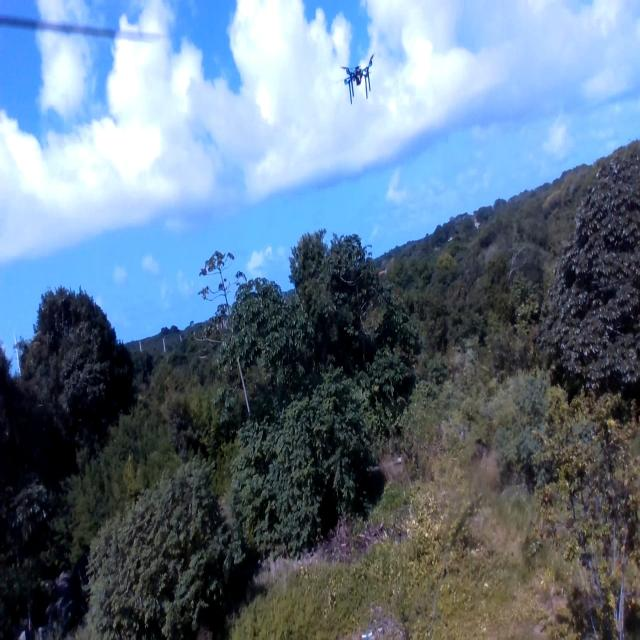-uav-: (337, 52, 382, 110)
